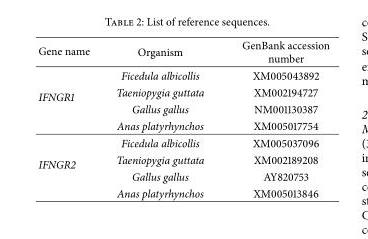table: (37, 37, 329, 200)
table column: (102, 37, 222, 200), (222, 37, 329, 200), (37, 37, 102, 200)
table column header: (37, 37, 329, 66)
table row: (37, 37, 329, 66), (37, 66, 329, 83), (37, 83, 329, 100), (37, 116, 329, 133), (37, 133, 329, 150), (37, 150, 329, 167), (37, 167, 329, 184), (37, 100, 329, 116), (37, 184, 329, 200)
table spanning cell: (37, 66, 102, 133), (37, 133, 102, 200)
